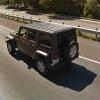Car: (5, 14, 83, 78)
